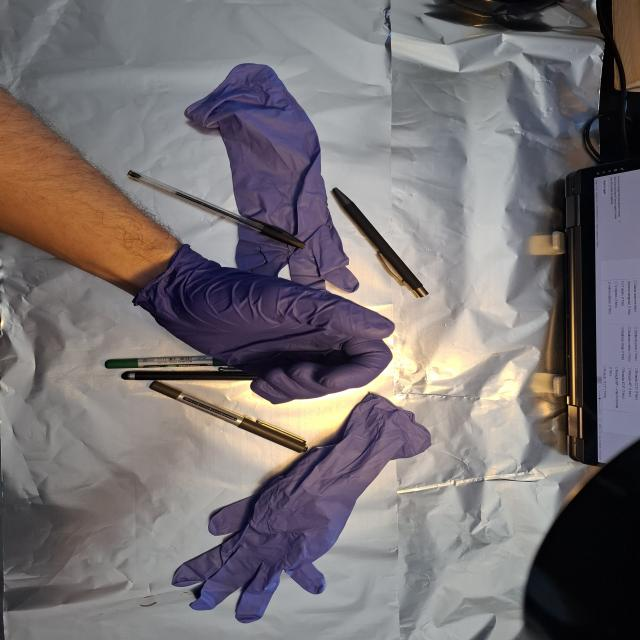glove_on: (138, 258, 400, 407)
